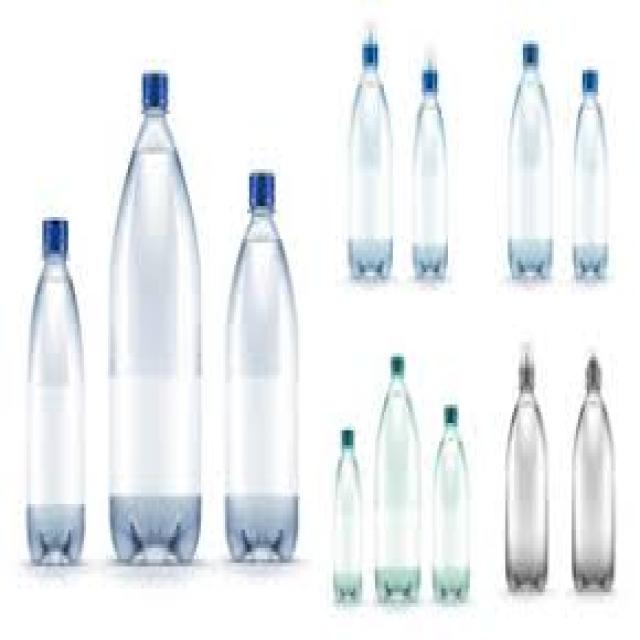plastic: (110, 74, 199, 559), (221, 169, 298, 555), (331, 353, 419, 596), (26, 217, 84, 559), (508, 44, 552, 276), (505, 349, 547, 585), (349, 40, 391, 276), (572, 357, 614, 585), (410, 66, 448, 276), (430, 405, 468, 596), (572, 70, 607, 272)
